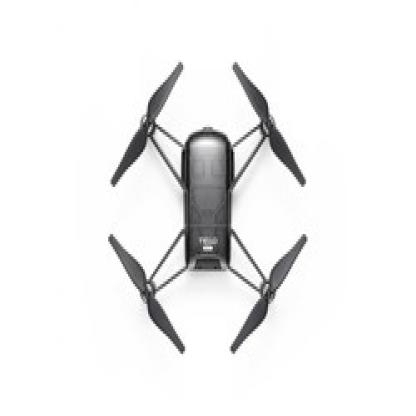drone: (92, 60, 324, 371)
